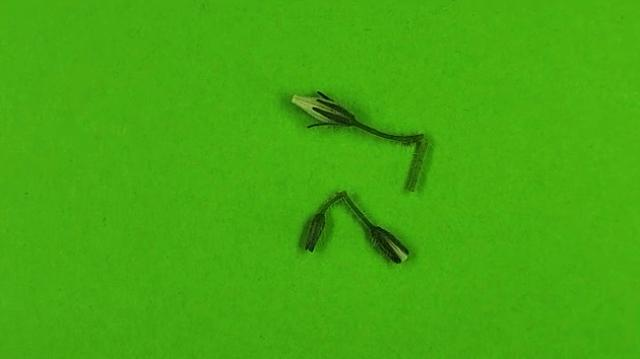Flower Bud: (370, 228, 410, 265), (303, 213, 326, 253)
